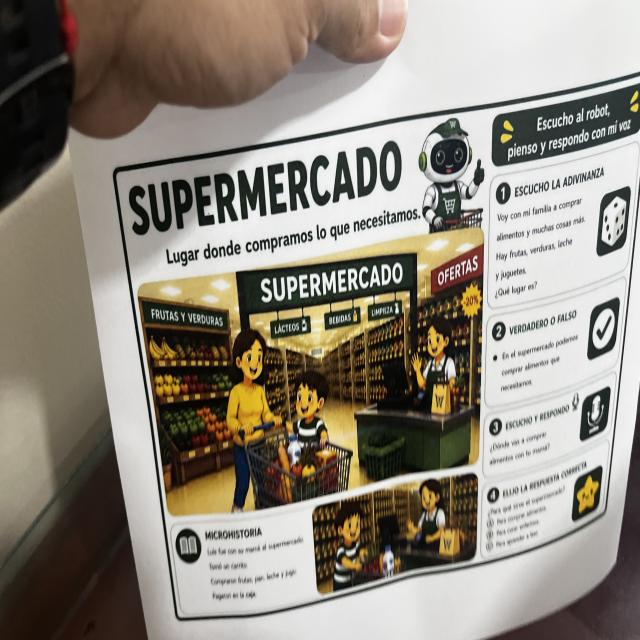supermercado: (109, 63, 640, 630)
